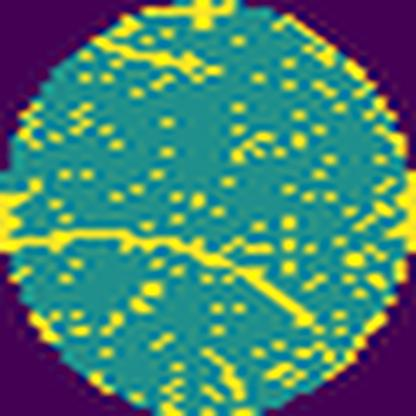Scratch: (0, 181, 316, 328)
